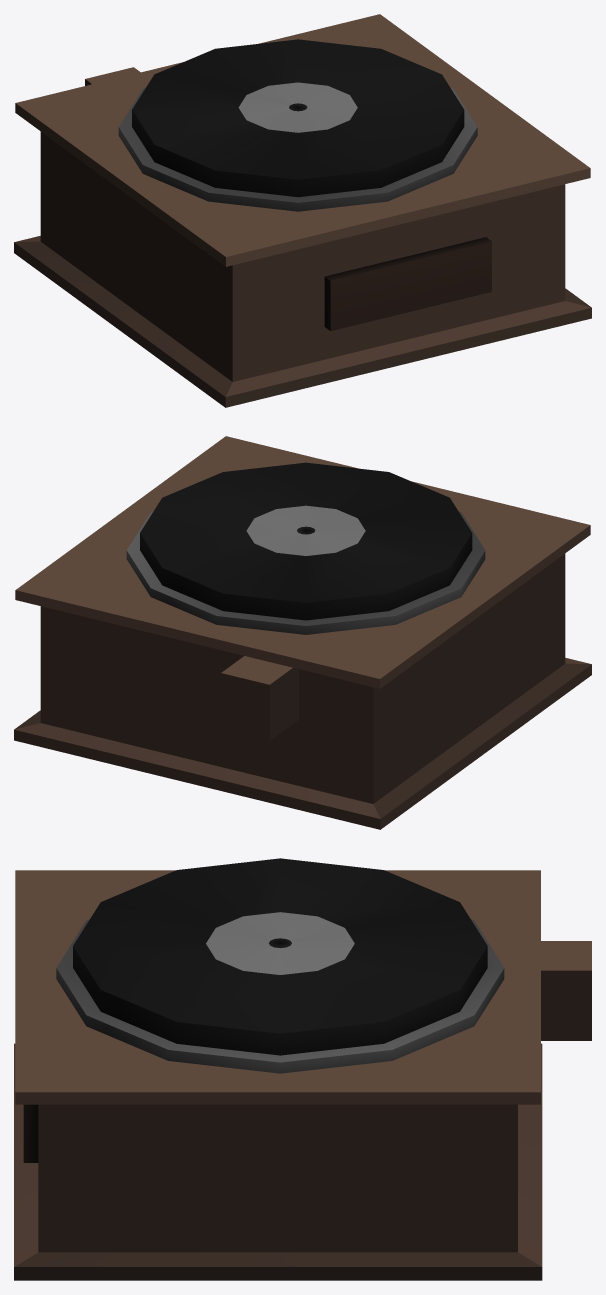
The model's file is human-music-gramophone_v1.glb.
The picture shows the model from 3 angles, top to bottom: view 1: azimuth 30°, elevation 25°; view 2: azimuth 150°, elevation 25°; view 3: azimuth 270°, elevation 25°; orthographic projection. The views are drawn at different scales.
Parts seen in each view (by area): view 1: Gramophone; view 2: Gramophone; view 3: Gramophone.
Part boxes in pixels (x1,y1,x2,y2): Gramophone: (14, 14, 591, 407); Gramophone: (14, 436, 591, 829); Gramophone: (14, 858, 591, 1280).
Bounding box in the file's own units: 0.3657 × 0.1705 × 0.4.
